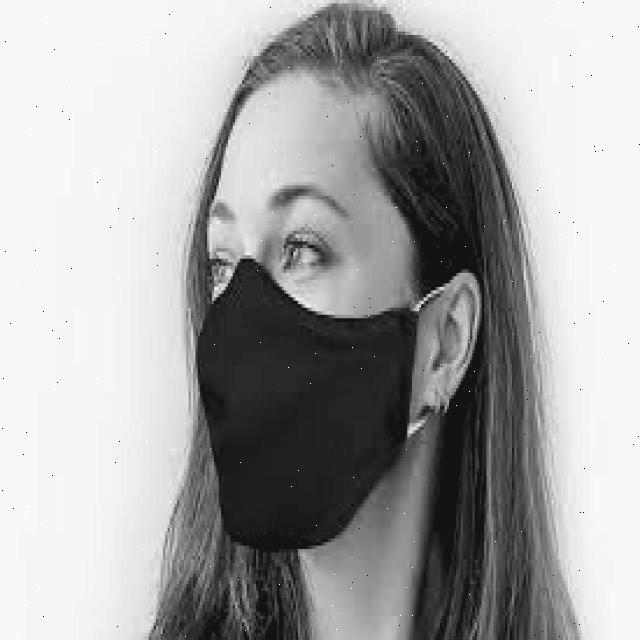fake: (150, 213, 456, 562)
real: (198, 77, 414, 568)
